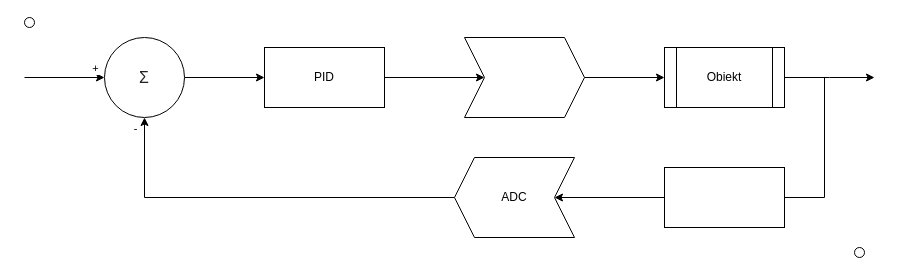
Image size: 900x275. Some labels were removed from this diagram. The centre of each missing label's shape, as x and y in pixels:
Czujnik: the point at 724,197
DAC: the point at 524,77
